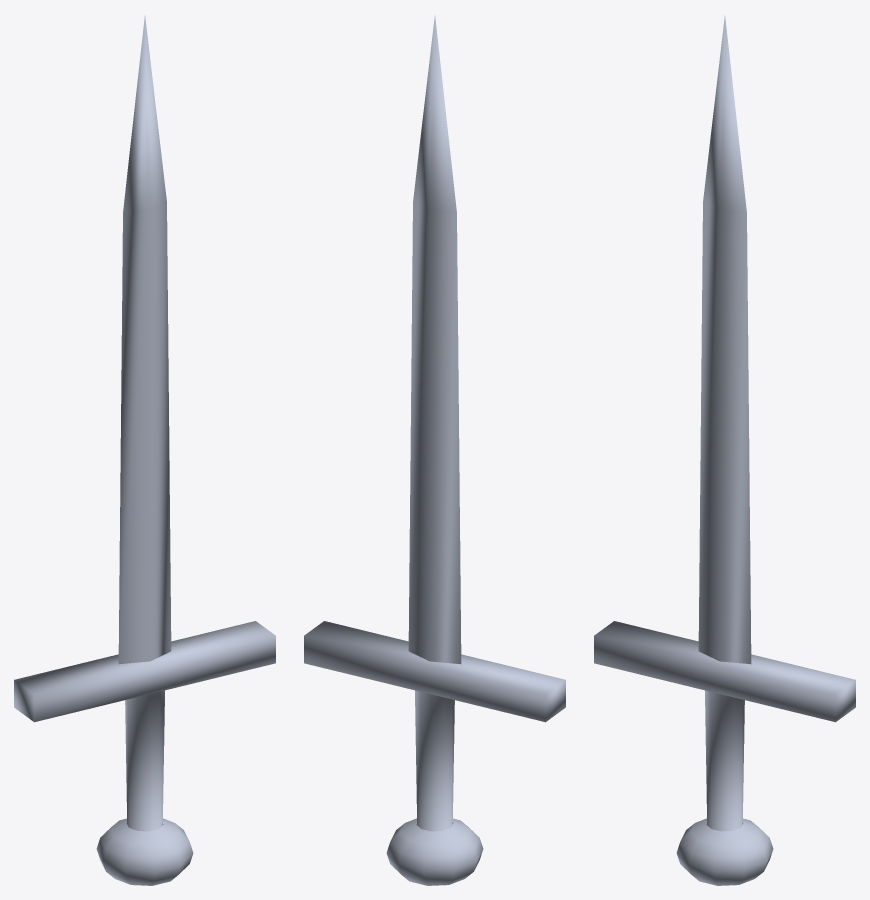
Rendered from polygen_a_rusty_medieval_broadsw_eb67917b.obj.
3 renders of one model, left to right at view 1: azimuth 30°, elevation 25°; view 2: azimuth 150°, elevation 25°; view 3: azimuth 330°, elevation 25°, orthographic.
Visible parts, largest first — view 1: Sword; view 2: Sword; view 3: Sword.
Boxes of the visible parts, bbox=[...] form: Sword: bbox=[14, 15, 275, 885]; Sword: bbox=[304, 15, 565, 885]; Sword: bbox=[594, 15, 855, 885].
Size of the model in its own units: 0.5839 by 1.99 by 0.1938.
